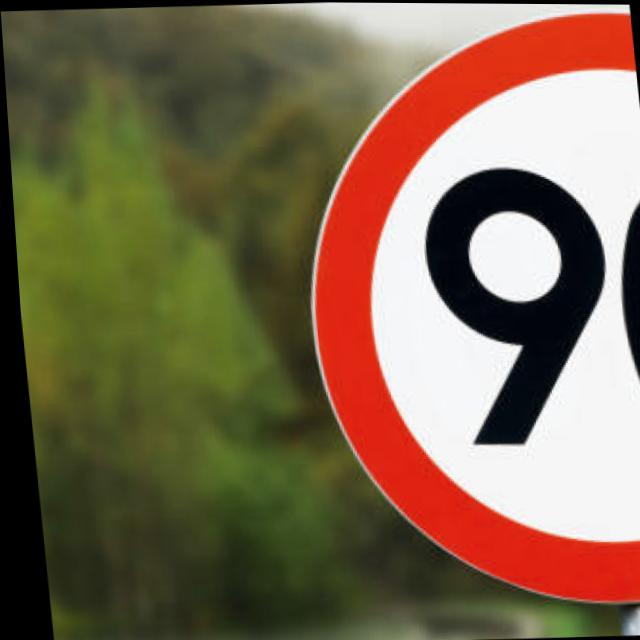Speed Limit -90-: (275, 5, 640, 624)
